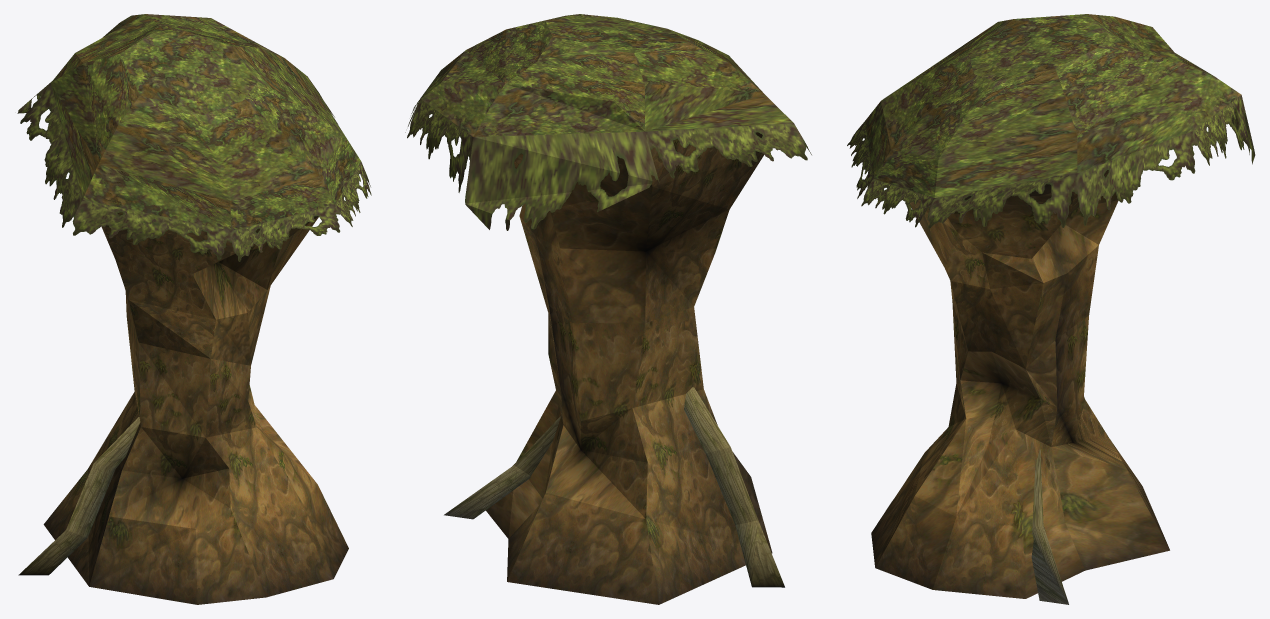
Rendered from swamp-rat-nest-a-lod1.glb.
3 views of the same model, side by side, from view 1: azimuth 30°, elevation 25°; view 2: azimuth 150°, elevation 25°; view 3: azimuth 270°, elevation 25° (orthographic). The views are drawn at different scales.
Visible parts, largest first — view 1: swamp-rat-nest-a-lod1; view 2: swamp-rat-nest-a-lod1; view 3: swamp-rat-nest-a-lod1.
Boxes of the visible parts, x1,y1,x2,y2 form: swamp-rat-nest-a-lod1: [17, 14, 371, 604]; swamp-rat-nest-a-lod1: [405, 14, 811, 604]; swamp-rat-nest-a-lod1: [847, 14, 1255, 604].
Bounding box in the file's own units: 6.47 × 9 × 6.7.
Materials: 4 (4 with a texture image).
